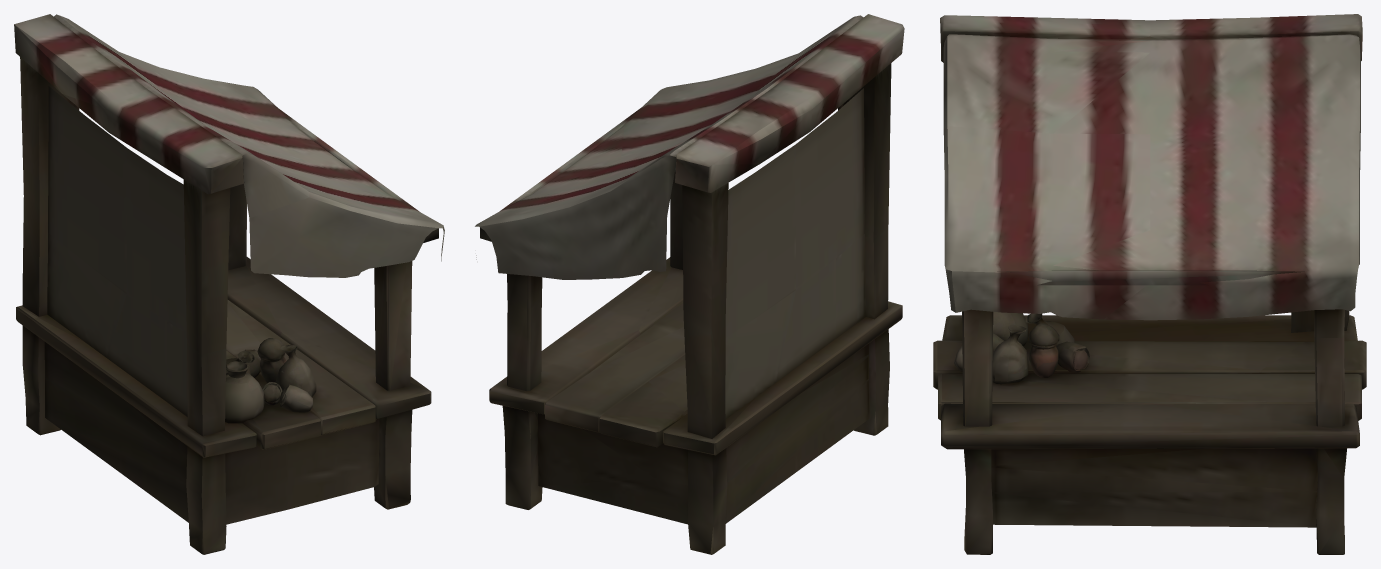
The model's file is stall.glb.
The picture shows the model from 3 angles, left to right: view 1: azimuth 30°, elevation 25°; view 2: azimuth 150°, elevation 25°; view 3: azimuth 270°, elevation 25°; orthographic projection. The views are drawn at different scales.
Visible parts, largest first — view 1: model; view 2: model; view 3: model.
Part boxes in pixels (x1,y1,x2,y2): model: (14,14,444,554); model: (475,14,904,554); model: (933,14,1366,554).
Bounding box in the file's own units: 0.6438 × 1 × 0.91.
1 material, 1 textured.
